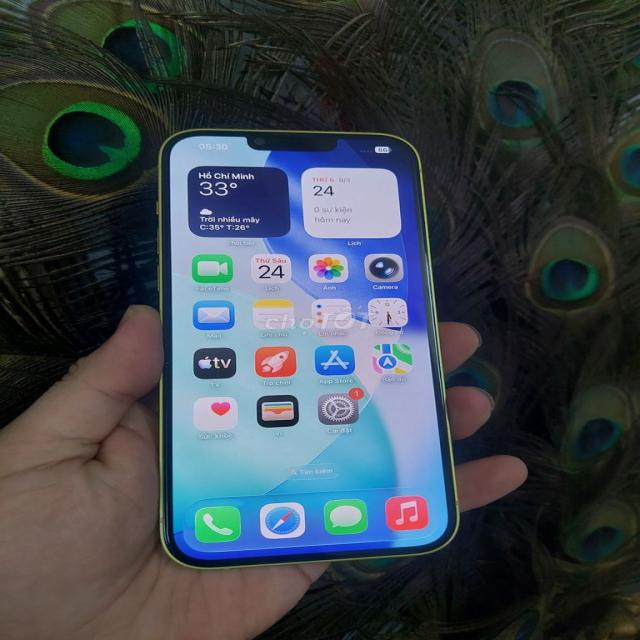gen_14: (150, 122, 474, 574)
